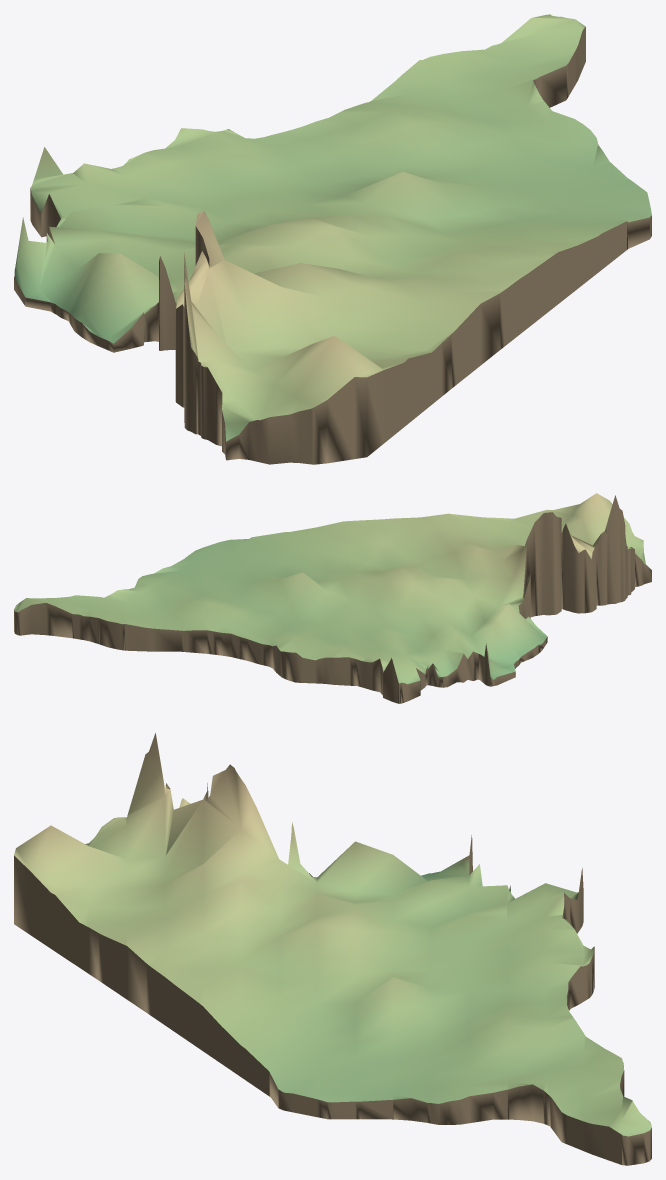
Rendered from SYR.glb.
The picture shows the model from 3 angles, top to bottom: view 1: azimuth 30°, elevation 25°; view 2: azimuth 150°, elevation 25°; view 3: azimuth 270°, elevation 25°; orthographic projection. The views are drawn at different scales.
Parts seen in each view (by area): view 1: SYR; view 2: SYR; view 3: SYR.
Boxes of the visible parts, box(x1,y1,x2,y2) form: SYR: box(14, 14, 651, 464); SYR: box(14, 493, 651, 703); SYR: box(14, 733, 651, 1165).
Bounding box in the file's own units: 1.4 × 0.338 × 1.31.
